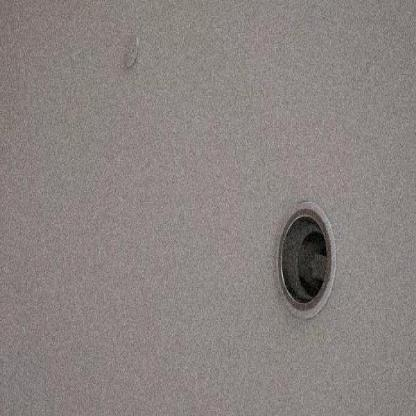light_off: (263, 171, 367, 328)
